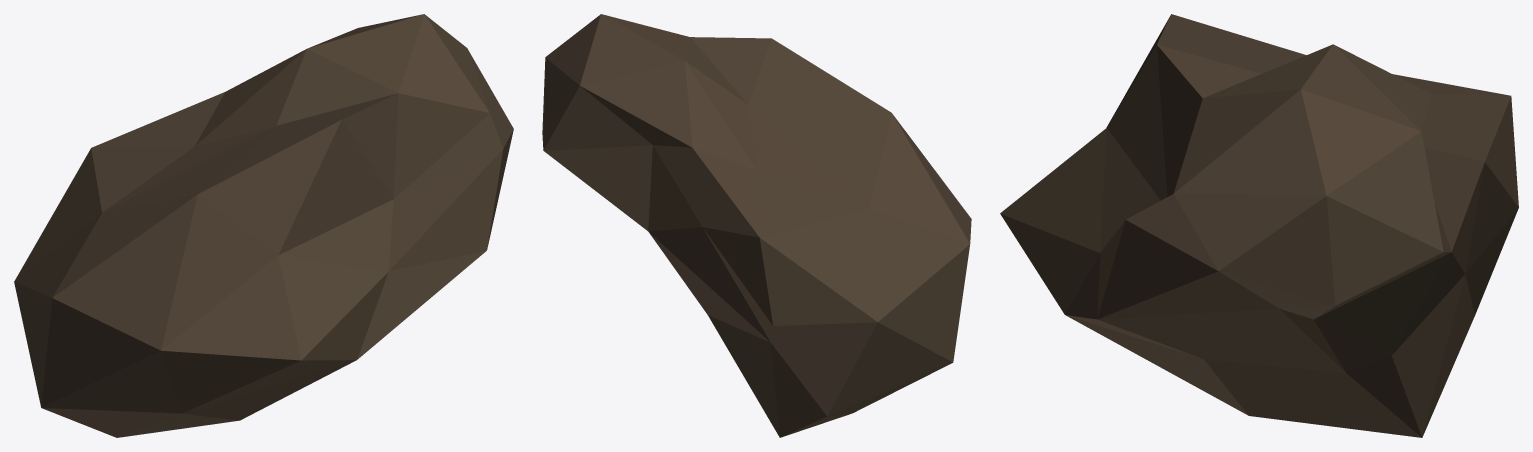
File: Asteroid2.fbx
3 views of the same model, side by side, from view 1: azimuth 30°, elevation 25°; view 2: azimuth 150°, elevation 25°; view 3: azimuth 270°, elevation 25° (orthographic). The views are drawn at different scales.
Parts seen in each view (by area): view 1: Asteroid2; view 2: Asteroid2; view 3: Asteroid2.
Part boxes in pixels (left/top/right/bottom): Asteroid2: left=14, top=14, right=513, bottom=437; Asteroid2: left=542, top=14, right=971, bottom=437; Asteroid2: left=1000, top=14, right=1518, bottom=437.
Size of the model in its own units: 87.12 by 64.81 by 70.07.
